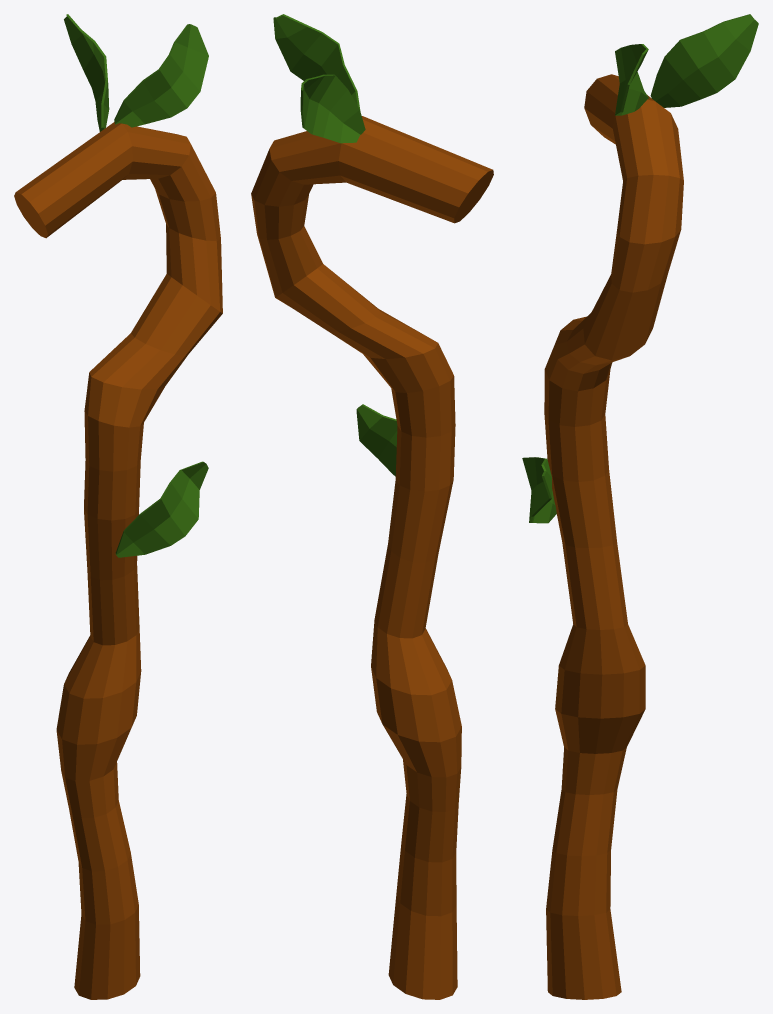
The model's file is magic_stick_1.fbx.
The picture shows the model from 3 angles, left to right: view 1: azimuth 30°, elevation 25°; view 2: azimuth 150°, elevation 25°; view 3: azimuth 270°, elevation 25°; orthographic projection. The views are drawn at different scales.
Parts seen in each view (by area): view 1: Cylinder, Plane.001, Plane, Plane.002; view 2: Cylinder, Plane.002, Plane.001, Plane; view 3: Cylinder, Plane.002, Plane.001, Plane.
Boxes of the visible parts, <box> form: Cylinder: <box>14,122,222,999</box>; Plane.001: <box>114,24,208,127</box>; Plane: <box>115,461,208,557</box>; Plane.002: <box>64,14,109,131</box>; Cylinder: <box>251,116,493,999</box>; Plane.002: <box>300,74,365,143</box>; Plane.001: <box>273,14,360,110</box>; Plane: <box>356,404,397,476</box>; Cylinder: <box>544,74,683,999</box>; Plane.002: <box>650,14,758,107</box>; Plane.001: <box>615,44,648,115</box>; Plane: <box>522,457,556,523</box>.
Bounding box in the file's own units: 100 × 427 × 90.41.
